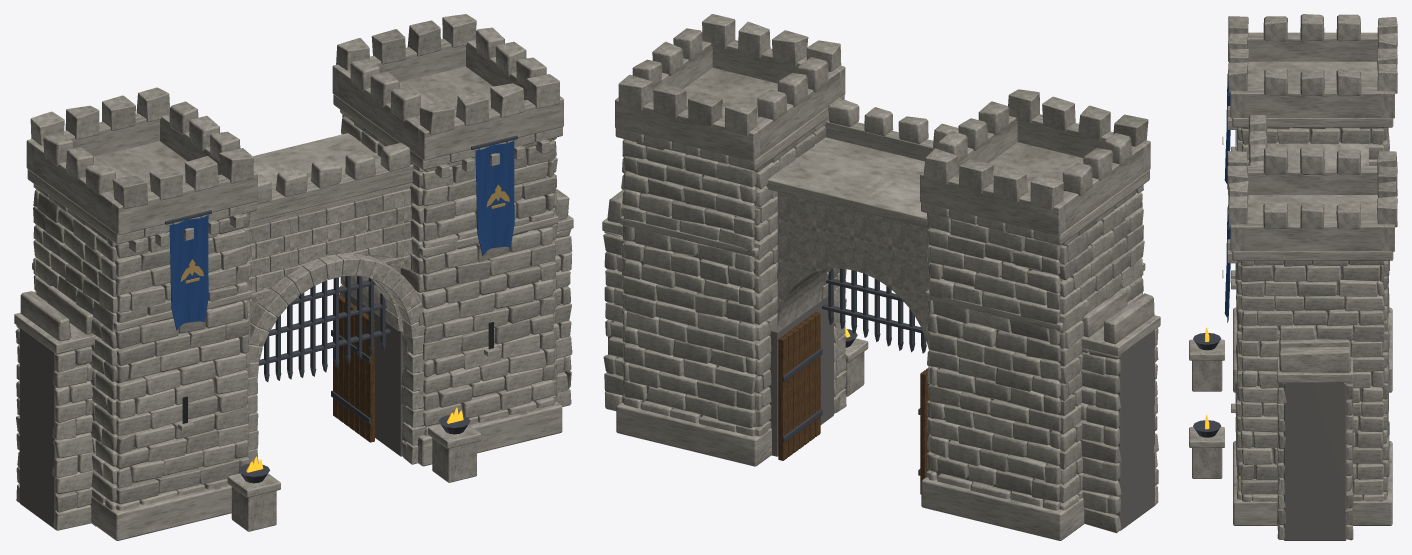
File: ValoriaHeroGate.glb
The picture shows the model from 3 angles, left to right: view 1: azimuth 30°, elevation 25°; view 2: azimuth 150°, elevation 25°; view 3: azimuth 270°, elevation 25°; orthographic projection. The views are drawn at different scales.
Visible parts, largest first — view 1: Tower front ashlar.002, Battered tower foot, Tower front ashlar.003, Tower front ashlar.001, Tower front ashlar.027, Tower front ashlar, Tower front ashlar.008, Tower structural core, Banner mounting bar, Royal blue Valoria banner, Open oak gate leaf; view 2: Tower front ashlar.002, Battered tower foot, Tower front ashlar.001, Tower front ashlar.003, Tower front ashlar.027, Tower front ashlar, Tower front ashlar.008, Tower structural core, Open oak gate leaf, Banner mounting bar; view 3: Tower front ashlar.002, Tower front ashlar.003, Battered tower foot, Tower structural core, Tower front ashlar.027, Tower front ashlar.008, Tower front ashlar.001, Tower front ashlar, Banner mounting bar, Royal blue Valoria banner.
Boxes of the visible parts, x1,y1,x2,y2 form: Tower front ashlar.002: (16,27,572,482); Battered tower foot: (14,94,573,540); Tower front ashlar.003: (16,66,570,531); Tower front ashlar.001: (16,20,571,512); Tower front ashlar.027: (15,14,572,478); Tower front ashlar: (30,83,571,530); Tower front ashlar.008: (16,114,571,507); Tower structural core: (20,187,565,527); Banner mounting bar: (165,135,517,483); Royal blue Valoria banner: (169,140,514,330); Open oak gate leaf: (333,294,374,442); Tower front ashlar.002: (607,28,1157,510); Battered tower foot: (602,95,1160,540); Tower front ashlar.001: (603,82,1158,501); Tower front ashlar.003: (605,67,1157,514); Tower front ashlar.027: (604,14,1158,512); Tower front ashlar: (604,21,1158,505); Tower front ashlar.008: (604,139,1158,533); Tower structural core: (608,146,1154,530); Open oak gate leaf: (778,312,929,494); Banner mounting bar: (782,268,926,475); Tower front ashlar.002: (1227,14,1397,529); Tower front ashlar.003: (1192,33,1397,524); Battered tower foot: (1189,73,1393,525); Tower structural core: (1252,127,1372,540); Tower front ashlar.027: (1228,49,1397,539); Tower front ashlar.008: (1235,127,1389,501); Tower front ashlar.001: (1228,16,1397,525); Tower front ashlar: (1228,17,1397,540); Banner mounting bar: (1193,93,1230,437); Royal blue Valoria banner: (1224,81,1230,322).
Bounding box in the file's own units: 11.58 × 7.65 × 4.52.
Materials: 14 (8 with a texture image).
